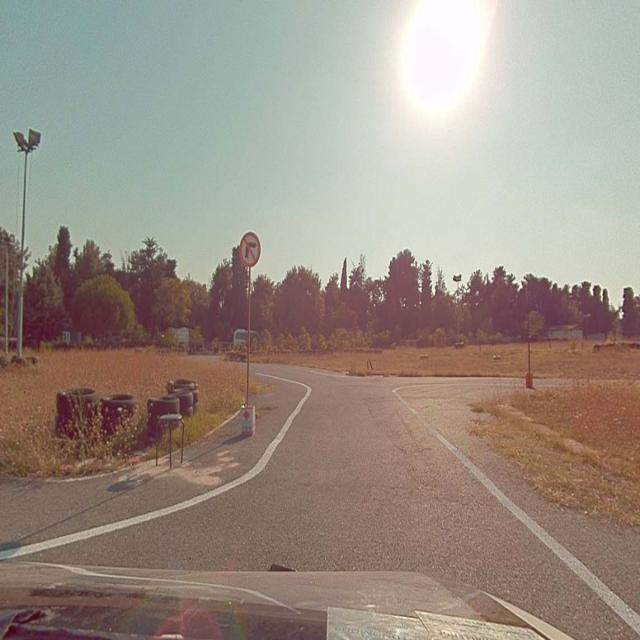sagadonulmez: (240, 232, 261, 265)
